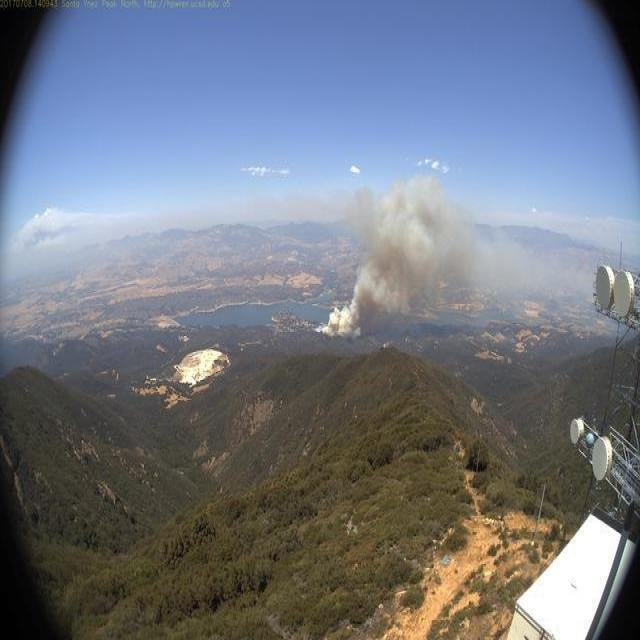Smoke: (311, 172, 594, 339)
